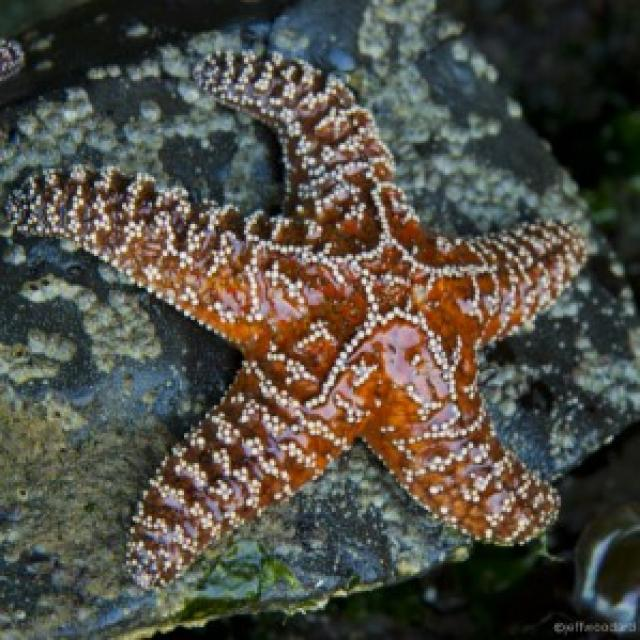Starfish: (0, 27, 590, 594)
